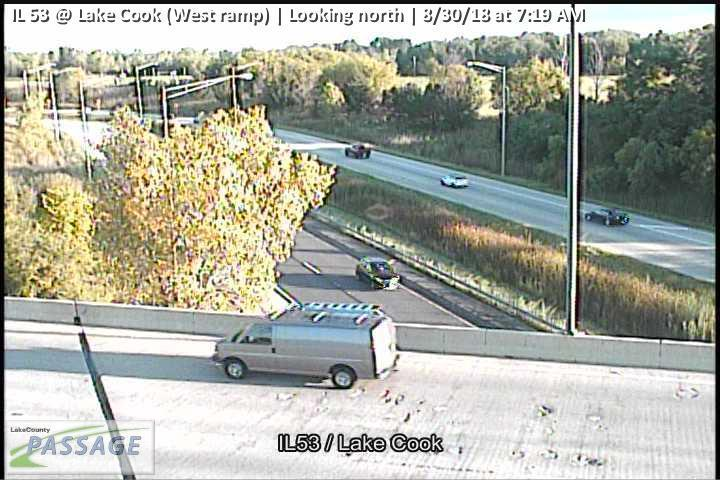SUV: (214, 303, 396, 389), (355, 258, 400, 290), (441, 175, 469, 189)
Sedan: (585, 207, 630, 227)
